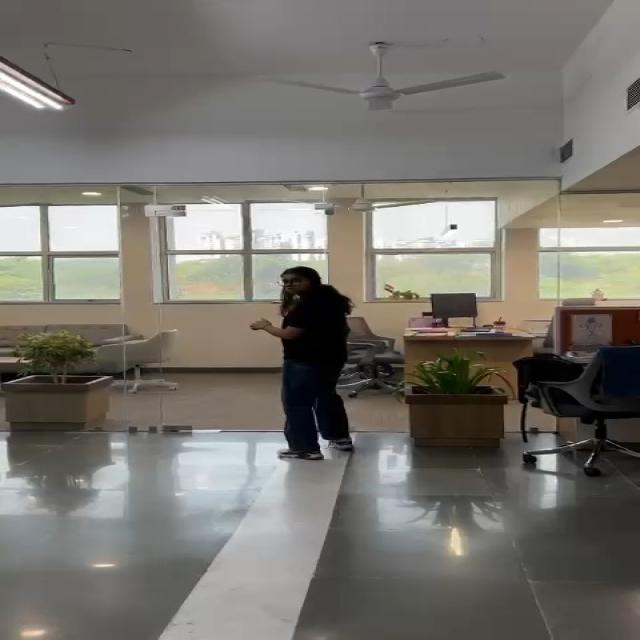floor: (11, 476, 640, 640), (166, 373, 283, 483)
furniture: (530, 331, 640, 478), (398, 350, 513, 477), (0, 326, 108, 448), (59, 302, 174, 404), (400, 288, 504, 342)
moving_object: (249, 258, 366, 465)
wall: (6, 172, 640, 270)
